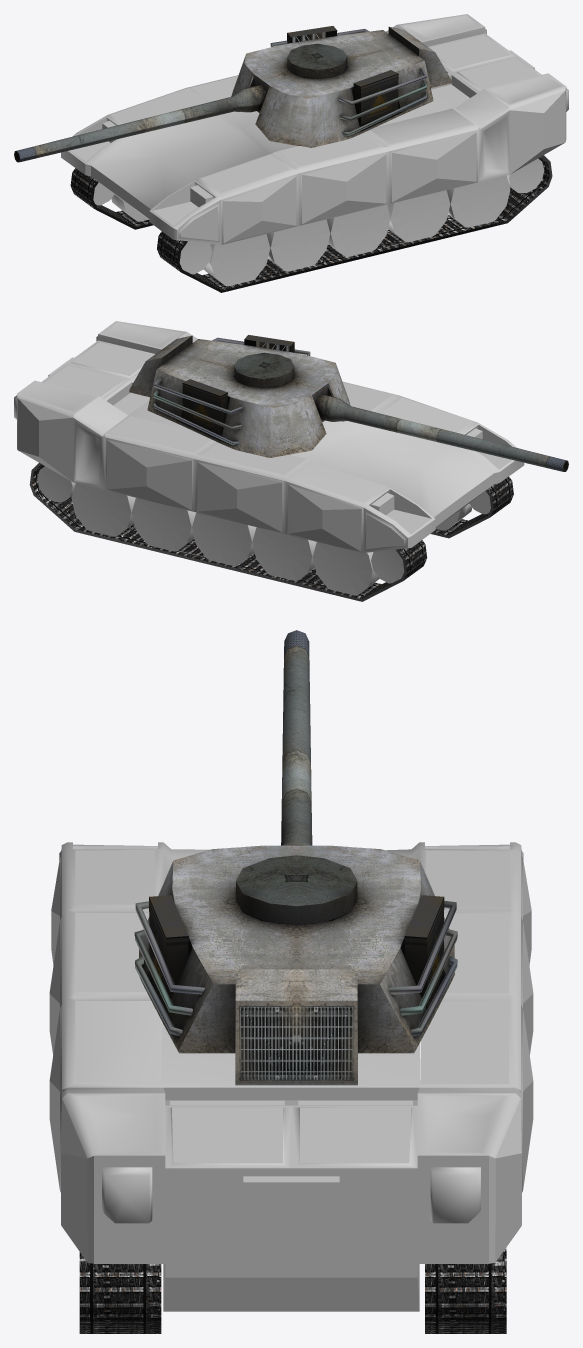
File: Tank3_lod1.FBX
3 renders of one model, top to bottom at view 1: azimuth 30°, elevation 25°; view 2: azimuth 150°, elevation 25°; view 3: azimuth 270°, elevation 25°, orthographic. The views are drawn at different scales.
Visible parts, largest first — view 1: tank09, tank3_gun02, Object30, tank3_gun03, wheel133, wheel136, wheel134, wheel130, wheel135, wheel126, wheel132; view 2: tank09, tank3_gun02, Object30, tank3_gun03, wheel125, wheel123, wheel128, wheel129, wheel127, wheel131, wheel124; view 3: tank09, tank3_gun02, Object30, tank3_gun03.
Part boxes in pixels (left/top/right/bottom): tank09: left=61, top=14, right=568, bottom=244; tank3_gun02: left=231, top=26, right=451, bottom=147; Object30: left=70, top=155, right=552, bottom=292; tank3_gun03: left=14, top=85, right=266, bottom=162; wheel133: left=203, top=234, right=270, bottom=286; wheel136: left=386, top=190, right=450, bottom=242; wheel134: left=266, top=219, right=330, bottom=271; wheel130: left=446, top=175, right=510, bottom=227; wheel135: left=326, top=205, right=390, bottom=256; wheel126: left=506, top=158, right=544, bottom=193; wheel132: left=179, top=241, right=212, bottom=274; tank09: left=14, top=321, right=524, bottom=552; tank3_gun02: left=129, top=335, right=350, bottom=457; Object30: left=29, top=462, right=513, bottom=601; tank3_gun03: left=315, top=394, right=568, bottom=471; wheel125: left=312, top=542, right=379, bottom=595; wheel123: left=71, top=483, right=135, bottom=536; wheel128: left=192, top=512, right=256, bottom=566; wheel129: left=131, top=498, right=196, bottom=551; wheel127: left=252, top=527, right=316, bottom=580; wheel131: left=37, top=466, right=75, bottom=501; wheel124: left=371, top=549, right=404, bottom=583; tank09: left=49, top=842, right=533, bottom=1311; tank3_gun02: left=134, top=845, right=457, bottom=1085; Object30: left=79, top=1247, right=506, bottom=1333; tank3_gun03: left=281, top=630, right=312, bottom=845.
Bounding box in the file's own units: 8.78 × 2.69 × 3.65.
